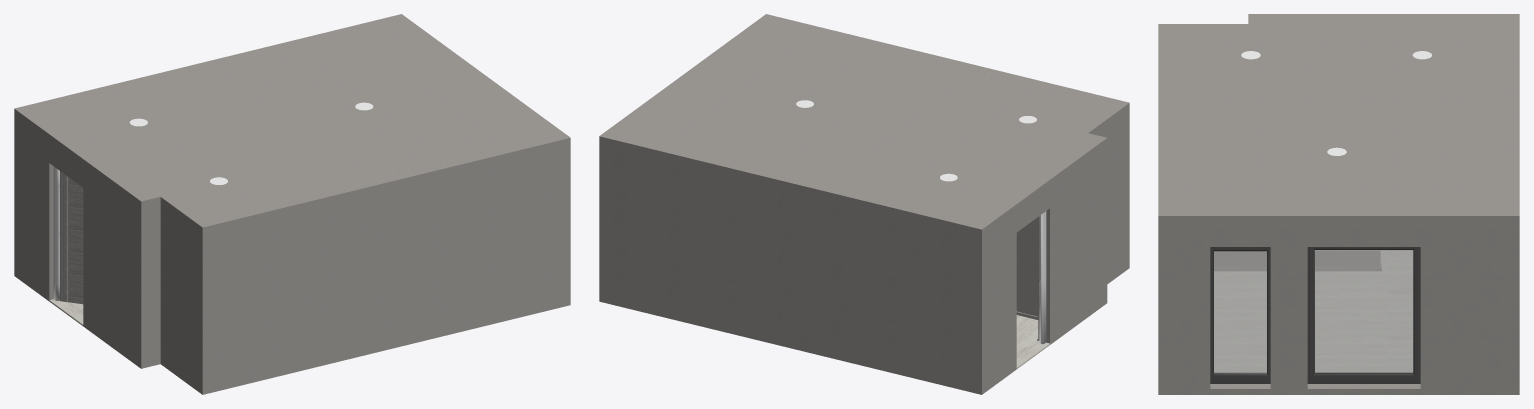
File: apt-studroom-2.glb
3 renders of one model, left to right at view 1: azimuth 30°, elevation 25°; view 2: azimuth 150°, elevation 25°; view 3: azimuth 270°, elevation 25°, orthographic. The views are drawn at different scales.
Visible parts, largest first — view 1: Walls, Ceiling, Seattle_Door_1981 _762.001, Basic_Door_Frame_1981_762.001; view 2: Walls, Ceiling, Floor, Basic_Door_Frame_1981_762.001; view 3: Walls, Ceiling, Floor, B_1_4_1_Exterior_Glass, B_1_4_2_Interior_Glasss, B_1_4_1_Exterior_Glass.001, B_1_4_2_Interior_Glasss.001, B_1_1_1_PVC_Window_Frame., B_1_1_1_PVC_Window_Frame..001, Walls.001.
Boxes of the visible parts, box(x1,y1,x2,y2) form: Walls: box(14, 14, 570, 394); Ceiling: box(35, 25, 542, 213); Seattle_Door_1981 _762.001: box(60, 171, 83, 304); Basic_Door_Frame_1981_762.001: box(53, 166, 59, 300); Walls: box(599, 14, 1129, 394); Ceiling: box(628, 24, 1099, 220); Floor: box(1016, 315, 1049, 368); Basic_Door_Frame_1981_762.001: box(1039, 211, 1046, 344); Walls: box(1158, 14, 1519, 394); Ceiling: box(1173, 20, 1501, 205); Floor: box(1214, 251, 1412, 372); B_1_4_1_Exterior_Glass: box(1315, 250, 1412, 372); B_1_4_2_Interior_Glasss: box(1315, 251, 1412, 372); B_1_4_1_Exterior_Glass.001: box(1214, 251, 1266, 372); B_1_4_2_Interior_Glasss.001: box(1214, 251, 1266, 372); B_1_1_1_PVC_Window_Frame.: box(1307, 247, 1420, 383); B_1_1_1_PVC_Window_Frame..001: box(1210, 247, 1270, 383); Walls.001: box(1214, 264, 1381, 270).
Bounding box in the file's own units: 7.03 × 2.9 × 5.31.
Materials: 21 (8 with a texture image).
